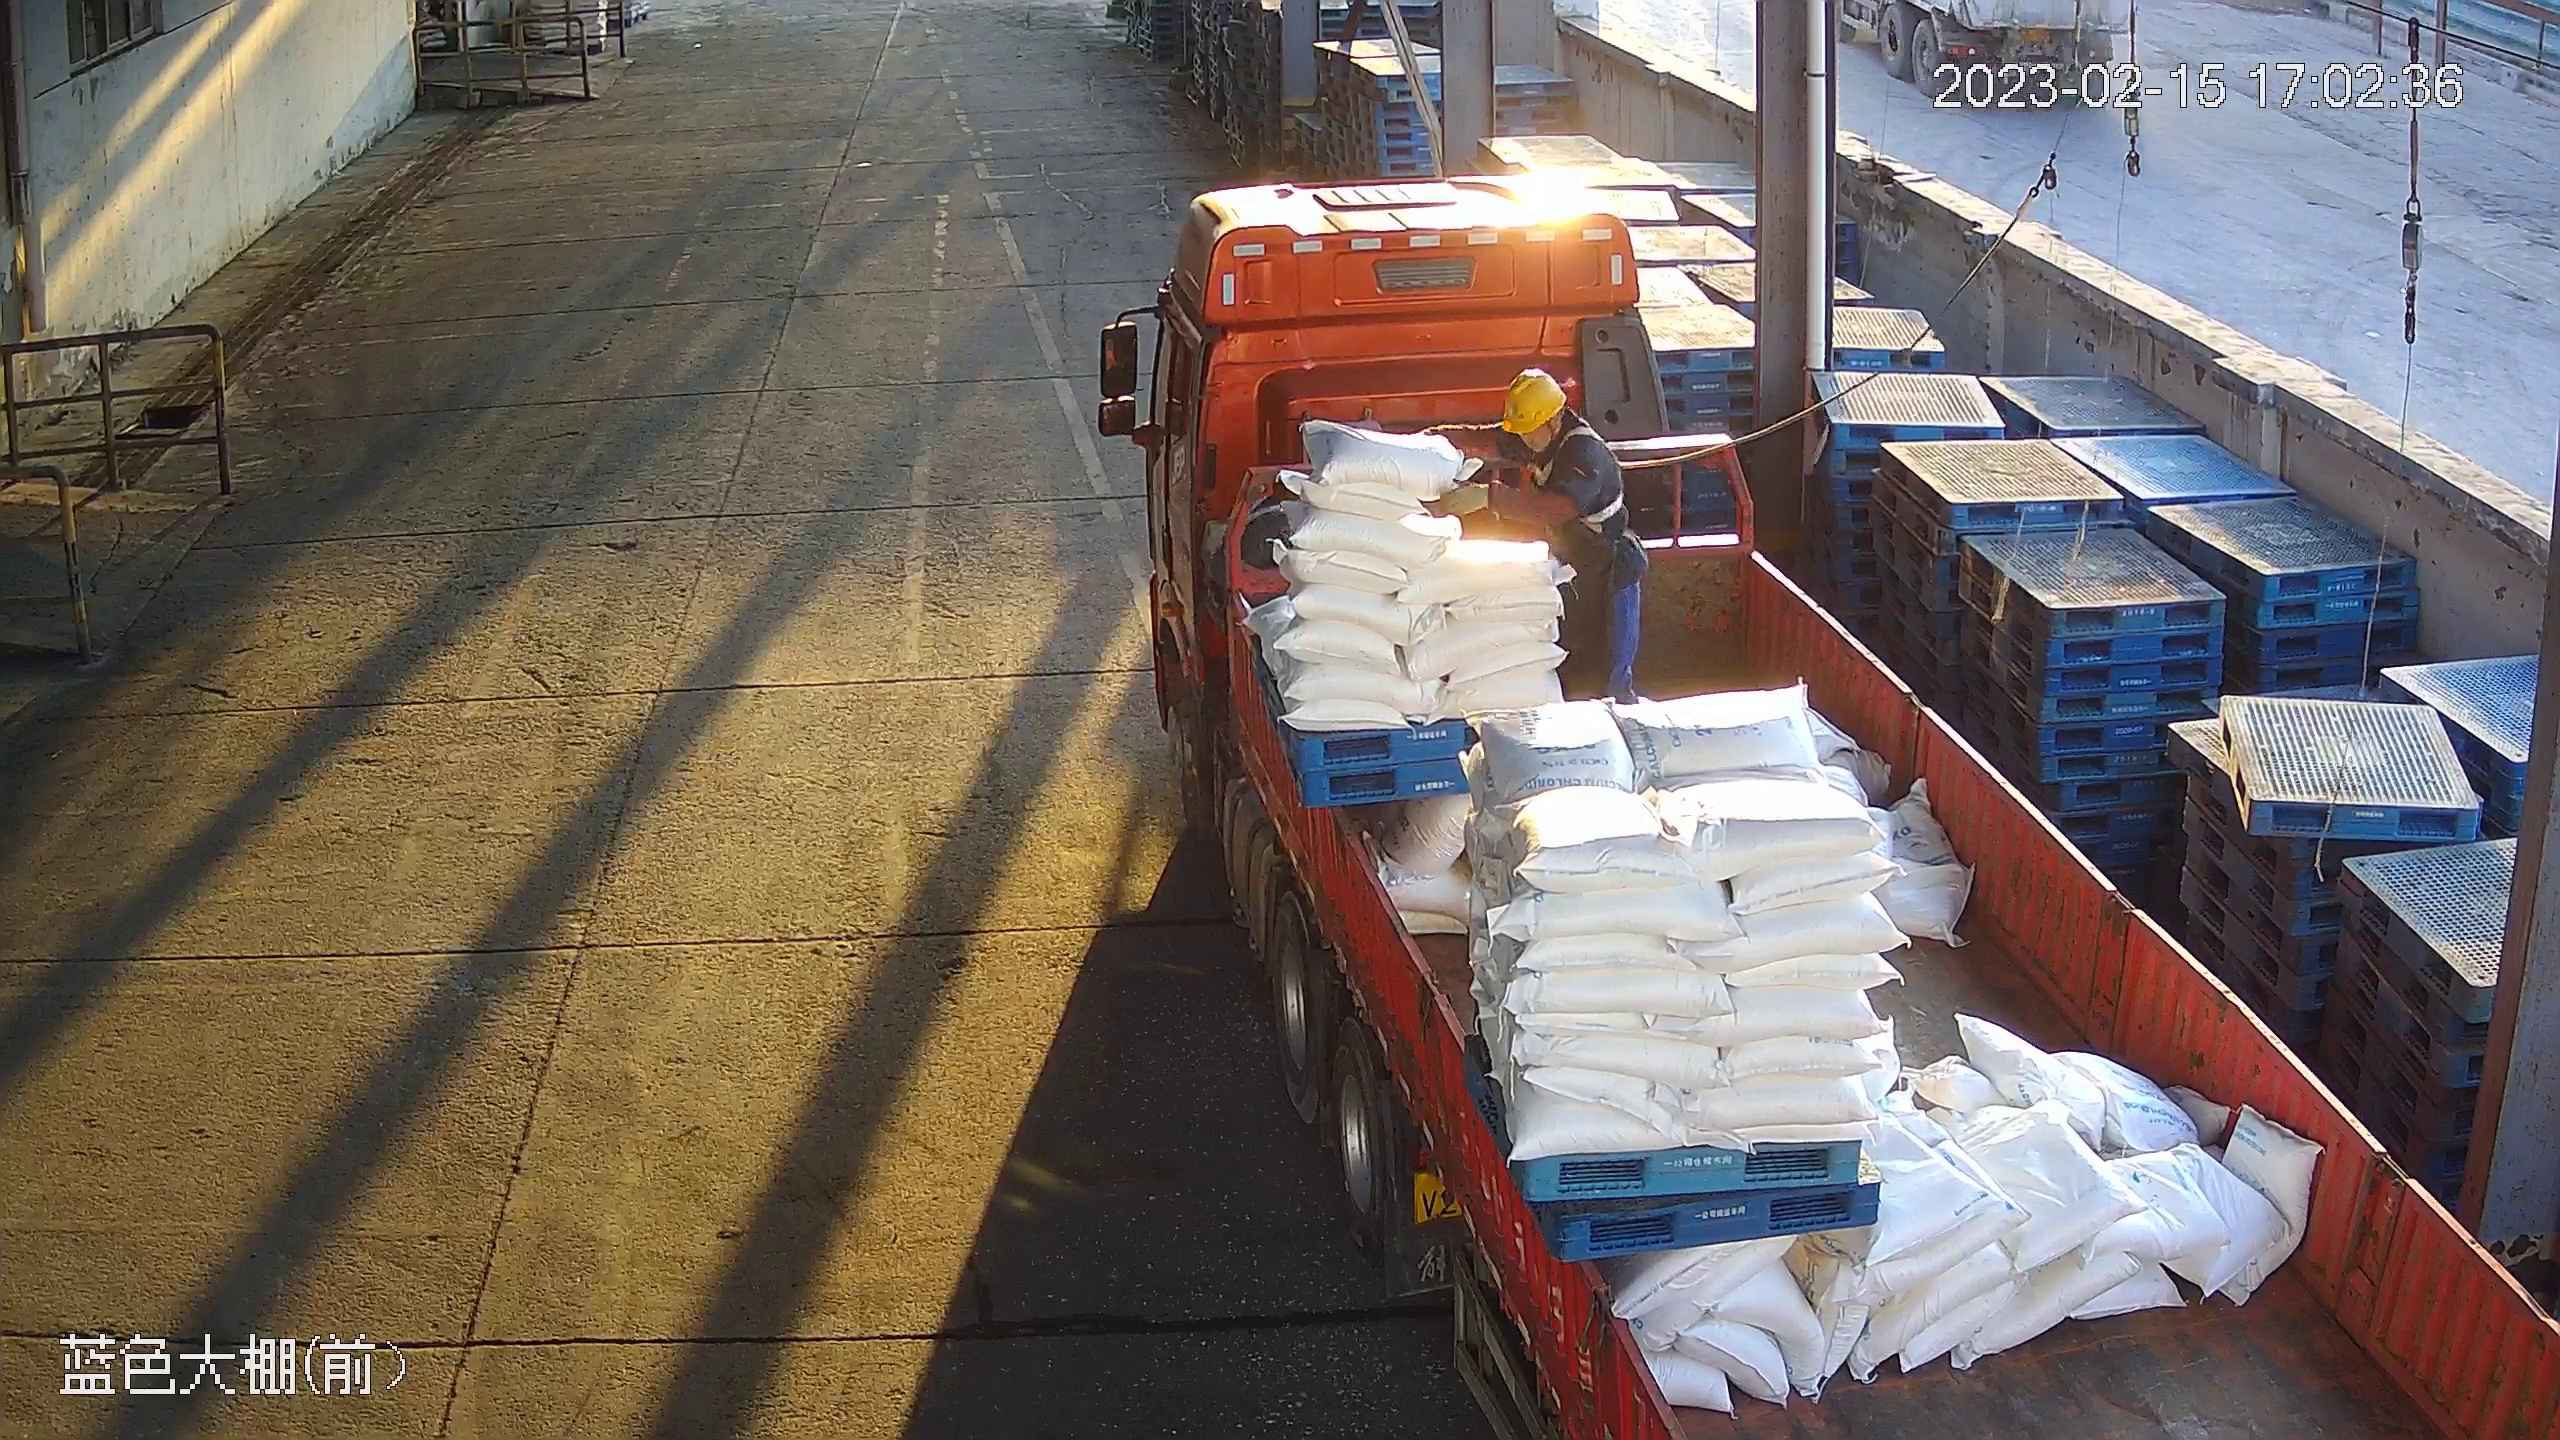belt: (1553, 423, 1640, 532)
head: (1475, 364, 1633, 505)
helmet: (1499, 370, 1566, 442)
people: (1434, 362, 1651, 721)
truck: (1088, 177, 2560, 1440)
